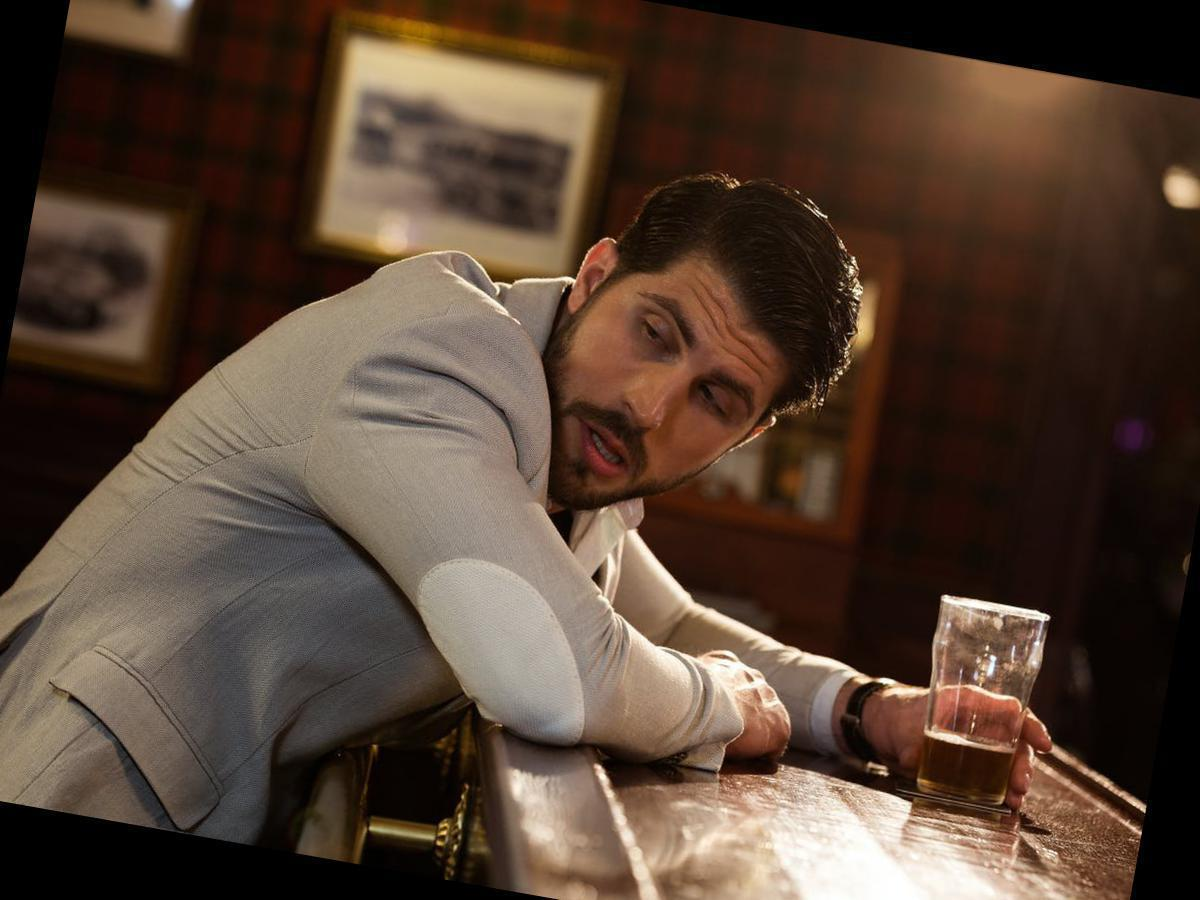Drunk: (559, 264, 766, 509)
